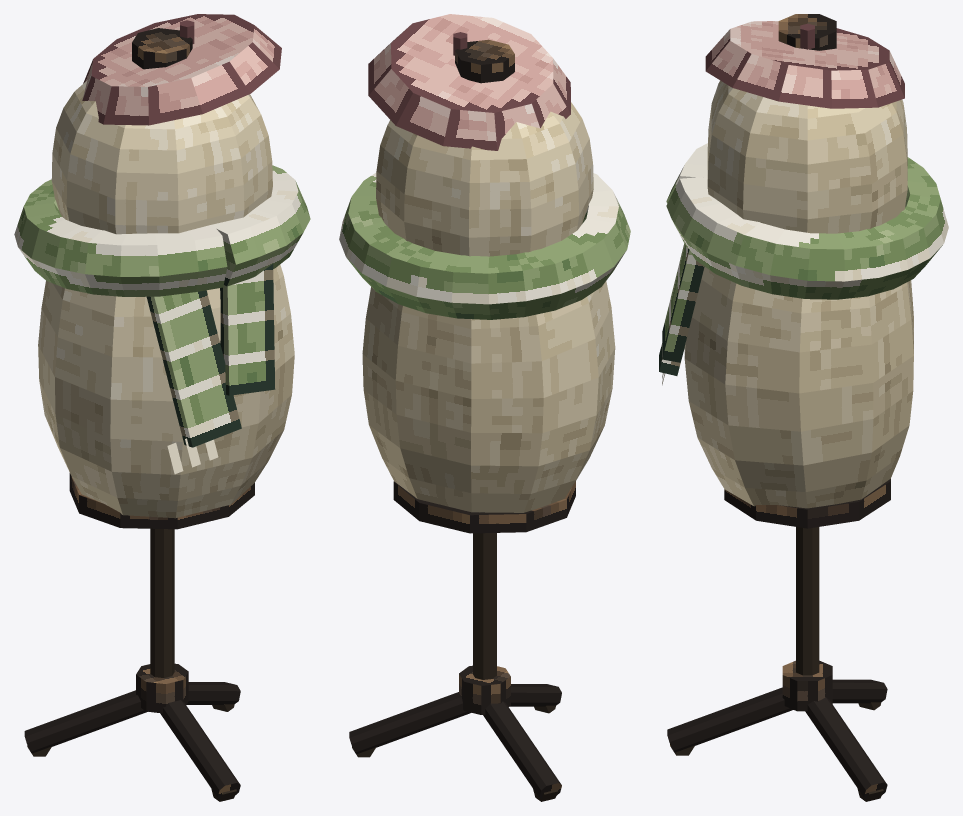
File: bust_dressed.glb
3 renders of one model, left to right at view 1: azimuth 30°, elevation 25°; view 2: azimuth 150°, elevation 25°; view 3: azimuth 270°, elevation 25°, orthographic. The views are drawn at different scales.
Parts seen in each view (by area): view 1: form, scarf_loop, beret, scarf_tail_a, scarf_tail_b, pole, leg_2, leg_0, base_cap, neck_cap, hub, leg_1 (+1 smaller); view 2: form, scarf_loop, beret, base_cap, pole, leg_1, leg_2, neck_cap, hub, leg_0; view 3: form, scarf_loop, beret, pole, base_cap, leg_0, leg_1, scarf_tail_b, hub, neck_cap, leg_2.
Boxes of the visible parts, x1=… form: form: x1=38, y1=80, x2=294, y2=518; scarf_loop: x1=14, y1=165, x2=310, y2=296; beret: x1=82, y1=14, x2=281, y2=125; scarf_tail_a: x1=146, y1=290, x2=241, y2=447; scarf_tail_b: x1=220, y1=264, x2=275, y2=395; pole: x1=150, y1=528, x2=174, y2=677; leg_2: x1=24, y1=690, x2=147, y2=753; leg_0: x1=160, y1=700, x2=240, y2=799; base_cap: x1=69, y1=473, x2=254, y2=529; neck_cap: x1=132, y1=28, x2=192, y2=69; hub: x1=136, y1=663, x2=188, y2=713; leg_1: x1=186, y1=682, x2=240, y2=704; form: x1=362, y1=102, x2=615, y2=512; scarf_loop: x1=339, y1=172, x2=630, y2=319; beret: x1=368, y1=14, x2=570, y2=150; base_cap: x1=393, y1=481, x2=575, y2=533; pole: x1=473, y1=533, x2=496, y2=679; leg_1: x1=349, y1=692, x2=471, y2=754; leg_2: x1=483, y1=701, x2=561, y2=799; neck_cap: x1=455, y1=39, x2=514, y2=83; hub: x1=459, y1=665, x2=510, y2=714; leg_0: x1=510, y1=684, x2=561, y2=706; form: x1=684, y1=80, x2=913, y2=508; scarf_loop: x1=666, y1=143, x2=948, y2=299; beret: x1=705, y1=21, x2=904, y2=108; pole: x1=796, y1=527, x2=819, y2=675; base_cap: x1=724, y1=479, x2=890, y2=528; leg_0: x1=667, y1=687, x2=793, y2=752; leg_1: x1=805, y1=697, x2=887, y2=799; scarf_tail_b: x1=662, y1=243, x2=704, y2=362; hub: x1=782, y1=660, x2=832, y2=711; neck_cap: x1=778, y1=14, x2=836, y2=50; leg_2: x1=832, y1=679, x2=887, y2=703.
Size of the model in its own units: 14.79 by 39.02 by 13.9.
2 materials, 2 textured.
